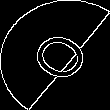O_SE: (17, 22, 93, 88)
